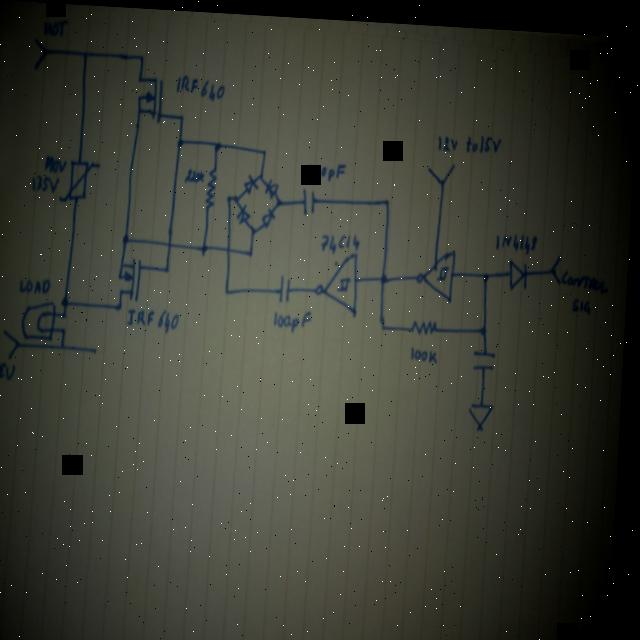capacitor: (473, 338, 501, 369), (301, 182, 320, 211), (279, 270, 296, 301)
crossover: (227, 242, 236, 251), (168, 238, 175, 247)
diode: (509, 250, 533, 284), (245, 170, 261, 192), (238, 201, 253, 222), (263, 204, 278, 225), (266, 175, 280, 196)
ground: (469, 396, 499, 427)
junction: (62, 294, 75, 307), (481, 318, 492, 331), (176, 134, 186, 148), (214, 137, 224, 149), (484, 265, 494, 276), (202, 240, 212, 251), (381, 268, 390, 280), (123, 231, 132, 243), (381, 315, 389, 328), (82, 46, 90, 58), (165, 262, 174, 272), (384, 191, 392, 202), (64, 309, 71, 319), (251, 223, 259, 231), (179, 111, 186, 120), (259, 168, 266, 177), (277, 194, 284, 203), (96, 344, 103, 353), (227, 283, 233, 293), (120, 300, 126, 310), (138, 51, 145, 59), (262, 144, 269, 152), (235, 191, 241, 200), (228, 191, 234, 199), (250, 246, 256, 254), (64, 324, 70, 332), (63, 341, 69, 349)
resistor: (411, 313, 442, 333), (206, 165, 220, 208)
terminal: (427, 156, 458, 179), (31, 36, 49, 70), (4, 330, 24, 359), (552, 247, 565, 277)
text: (175, 70, 226, 101), (437, 126, 504, 149), (130, 305, 183, 333), (563, 263, 612, 287), (496, 225, 541, 249), (274, 304, 315, 330), (307, 155, 348, 179), (322, 227, 363, 251), (22, 276, 54, 296), (412, 339, 442, 360), (32, 173, 62, 193), (42, 17, 69, 38), (0, 359, 20, 382), (573, 289, 595, 309), (45, 154, 68, 173), (185, 165, 208, 182)
transistor: (135, 73, 166, 121), (119, 254, 149, 300)
